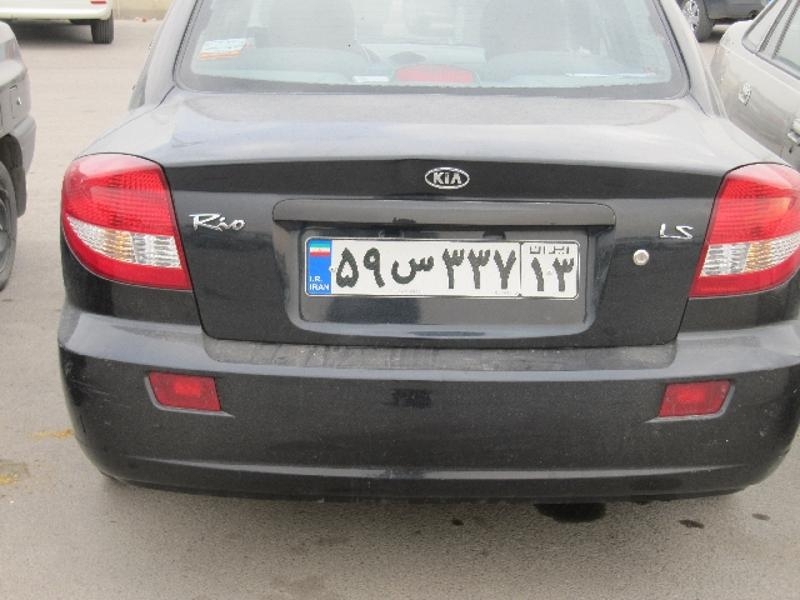Plate: (298, 235, 594, 303)
